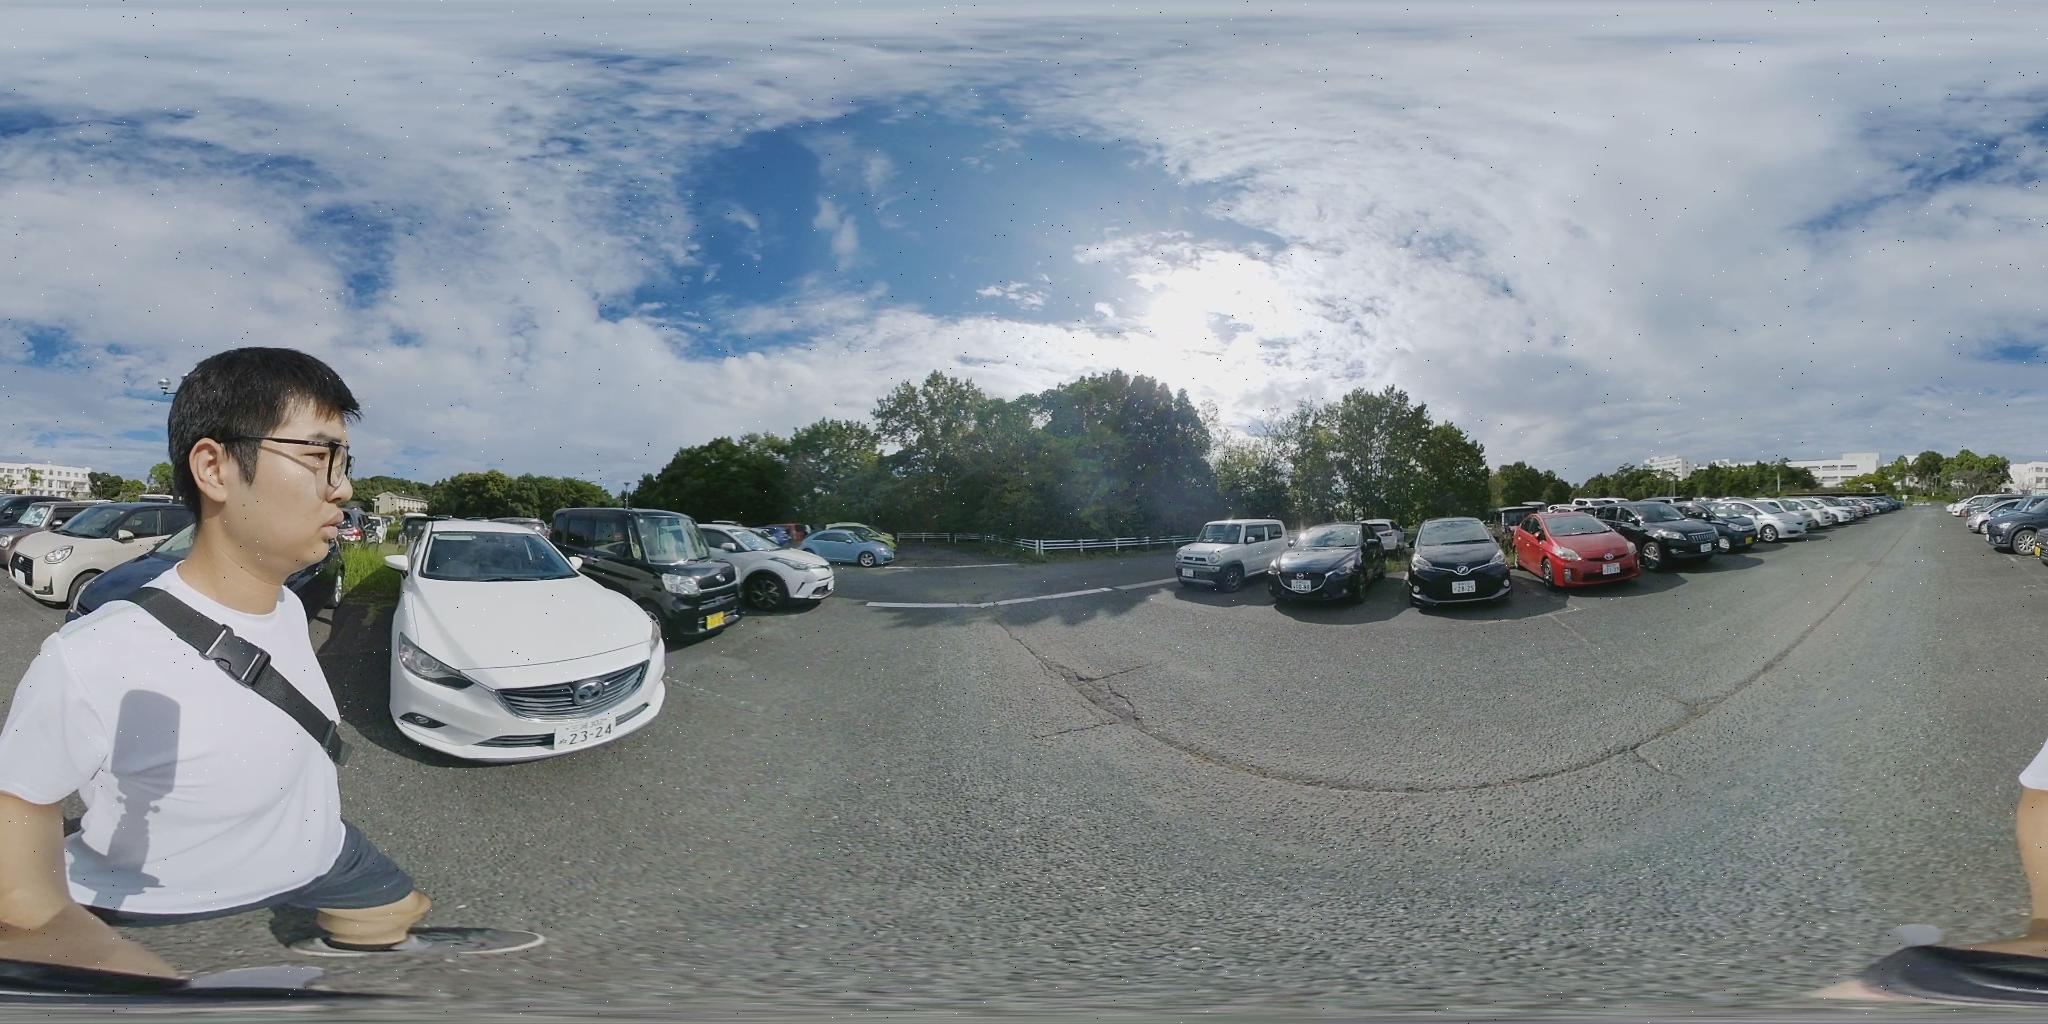car: (379, 519, 671, 761), (547, 505, 835, 640), (0, 502, 189, 606), (1502, 509, 1651, 589), (1411, 519, 1511, 609), (1270, 520, 1377, 601), (1172, 520, 1290, 589), (1629, 503, 1733, 559), (794, 524, 897, 564), (1742, 499, 1812, 539), (4, 496, 74, 536), (1808, 499, 1866, 528)
